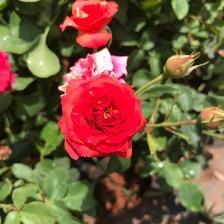rose: (58, 78, 145, 158), (61, 1, 116, 48)
